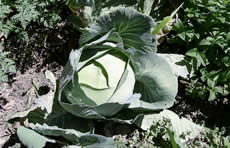cabbage: (11, 3, 184, 147)
